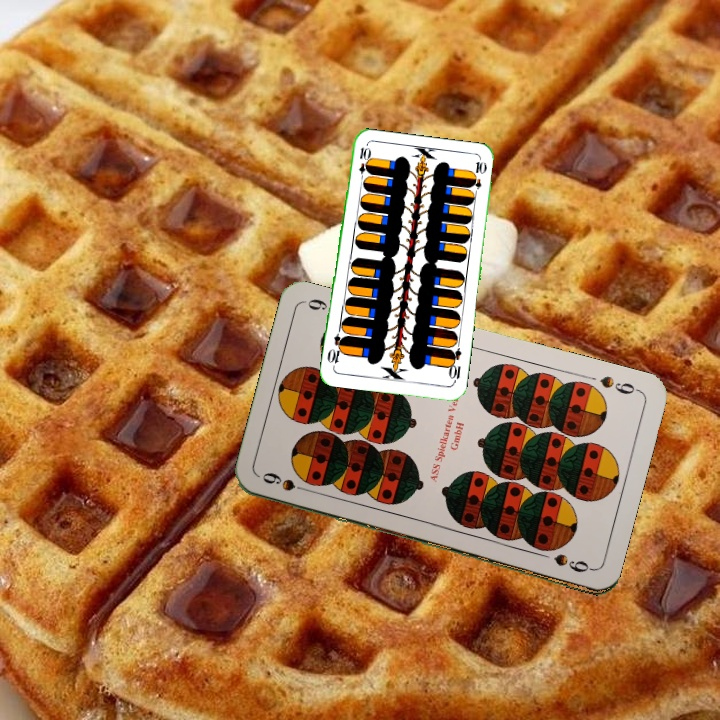E10: (444, 345, 464, 386), (355, 143, 371, 184)
S9: (258, 470, 315, 496), (596, 372, 643, 397)
